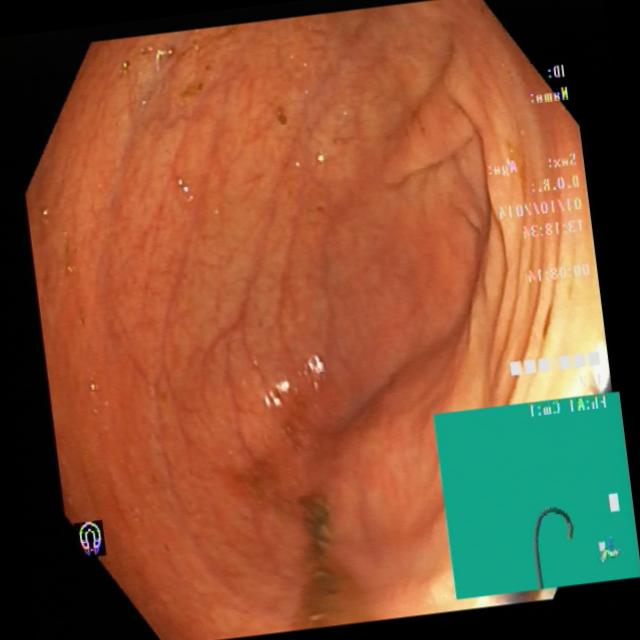normal-cecum: (220, 439, 381, 634), (118, 25, 235, 132)
